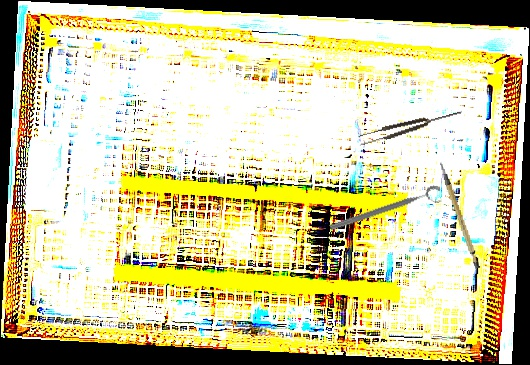Fixation Ring: (328, 183, 445, 240)
Scalpel Handle: (439, 158, 482, 272)
Tissue Forceps: (357, 106, 464, 147)
